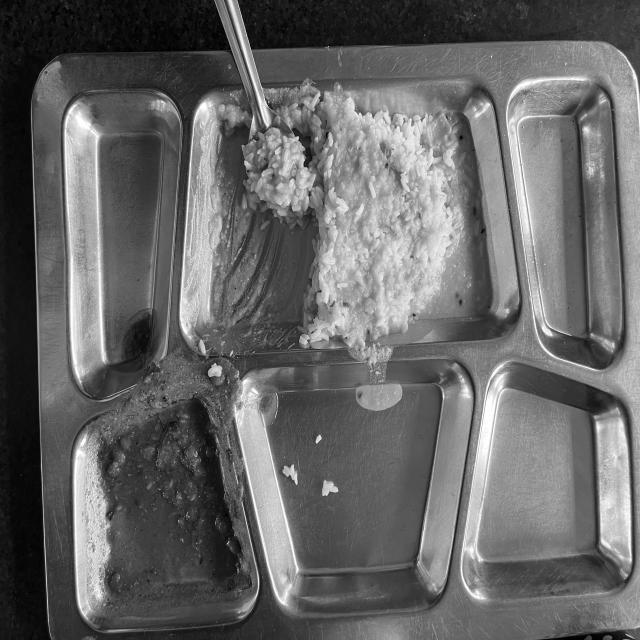50-Food-Left: (46, 77, 635, 626)
